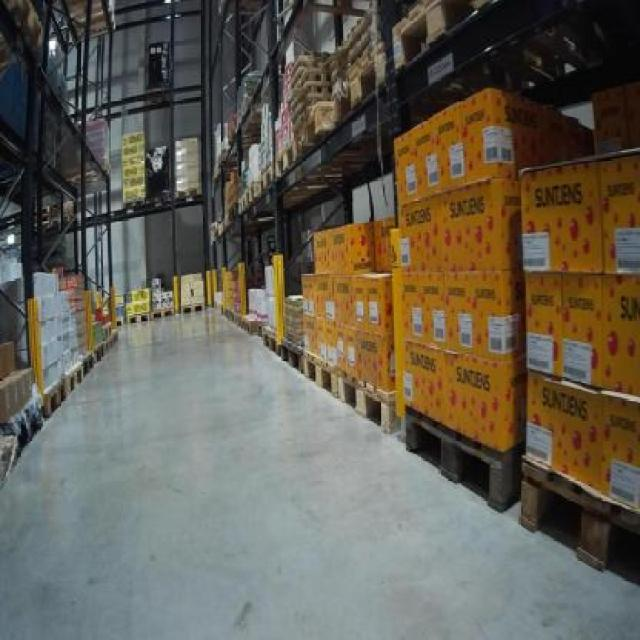ground: (0, 307, 638, 638)
pallet: (514, 452, 638, 592), (398, 402, 526, 515), (299, 341, 400, 436), (385, 0, 496, 82), (271, 99, 341, 182), (336, 45, 387, 119), (43, 357, 86, 420), (1, 0, 48, 55), (234, 161, 274, 215), (123, 300, 206, 326), (80, 329, 120, 378), (261, 325, 300, 374), (221, 303, 266, 335), (173, 185, 204, 200), (121, 195, 146, 211)
